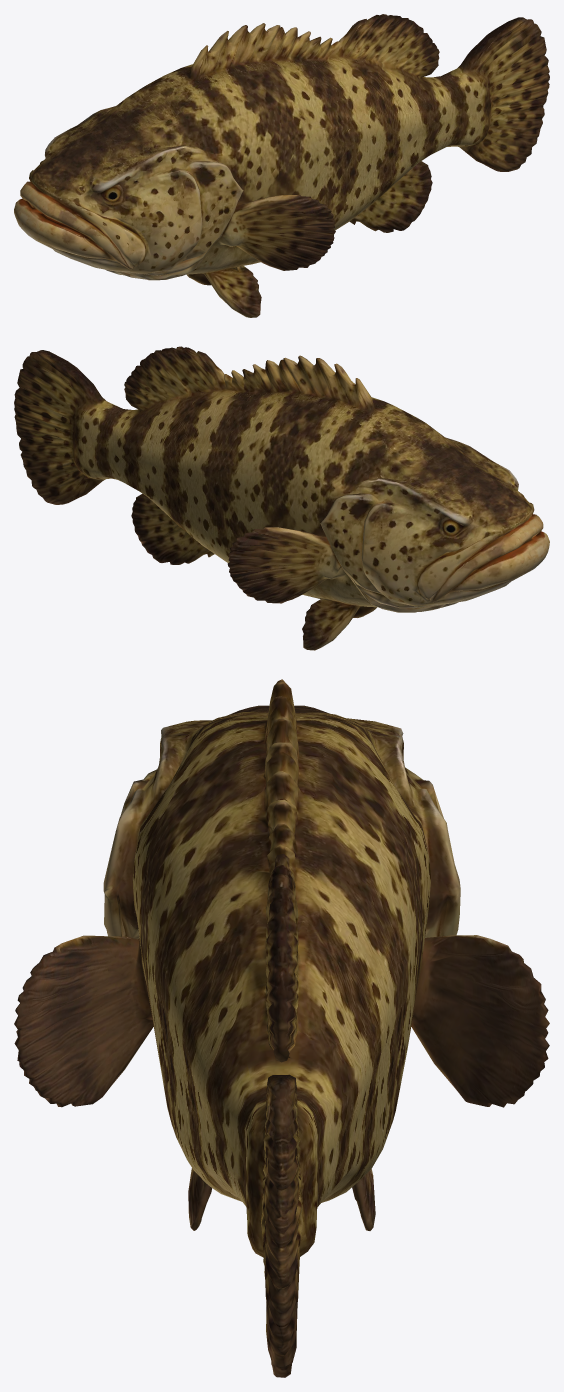
Rendered from fish-goliaf.glb.
The picture shows the model from 3 angles, top to bottom: view 1: azimuth 30°, elevation 25°; view 2: azimuth 150°, elevation 25°; view 3: azimuth 270°, elevation 25°; orthographic projection. The views are drawn at different scales.
Parts seen in each view (by area): view 1: tripo_node_68ccae32-594d-47e7-b3ff-ae1b5c96e902; view 2: tripo_node_68ccae32-594d-47e7-b3ff-ae1b5c96e902; view 3: tripo_node_68ccae32-594d-47e7-b3ff-ae1b5c96e902.
Part boxes in pixels (box(x1,y1,x2,y2)): tripo_node_68ccae32-594d-47e7-b3ff-ae1b5c96e902: box(14, 14, 549, 317); tripo_node_68ccae32-594d-47e7-b3ff-ae1b5c96e902: box(14, 346, 549, 650); tripo_node_68ccae32-594d-47e7-b3ff-ae1b5c96e902: box(14, 679, 549, 1377).
Bounding box in the file's own units: 1 × 0.4952 × 0.4411.
Materials: 1 (1 with a texture image).
